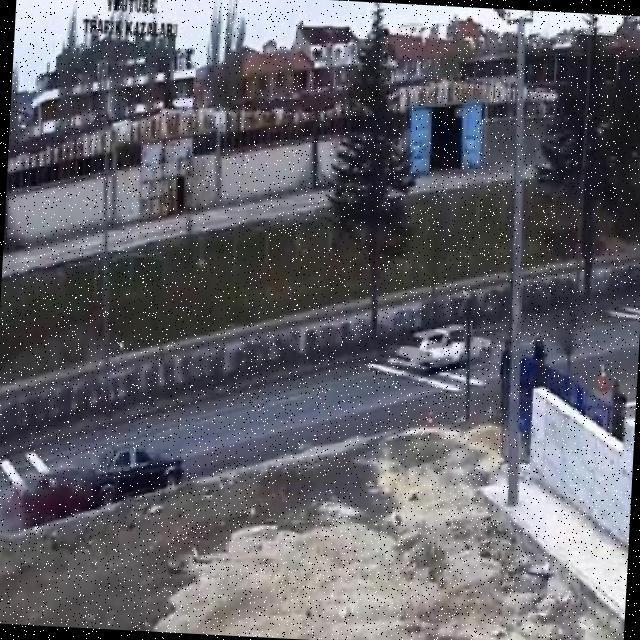accident: (0, 429, 192, 536)
